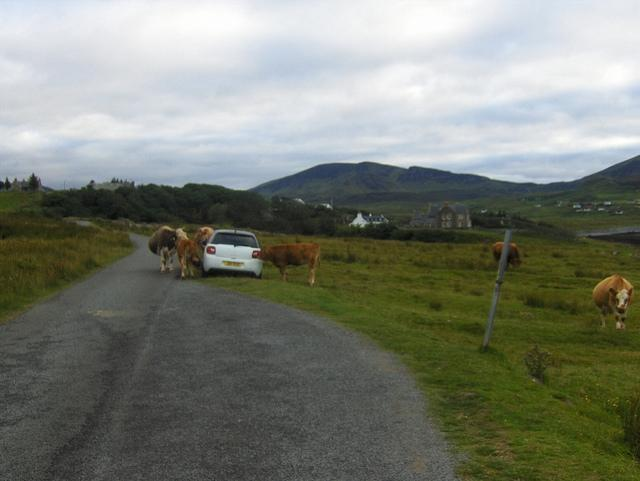car: (202, 228, 264, 280)
